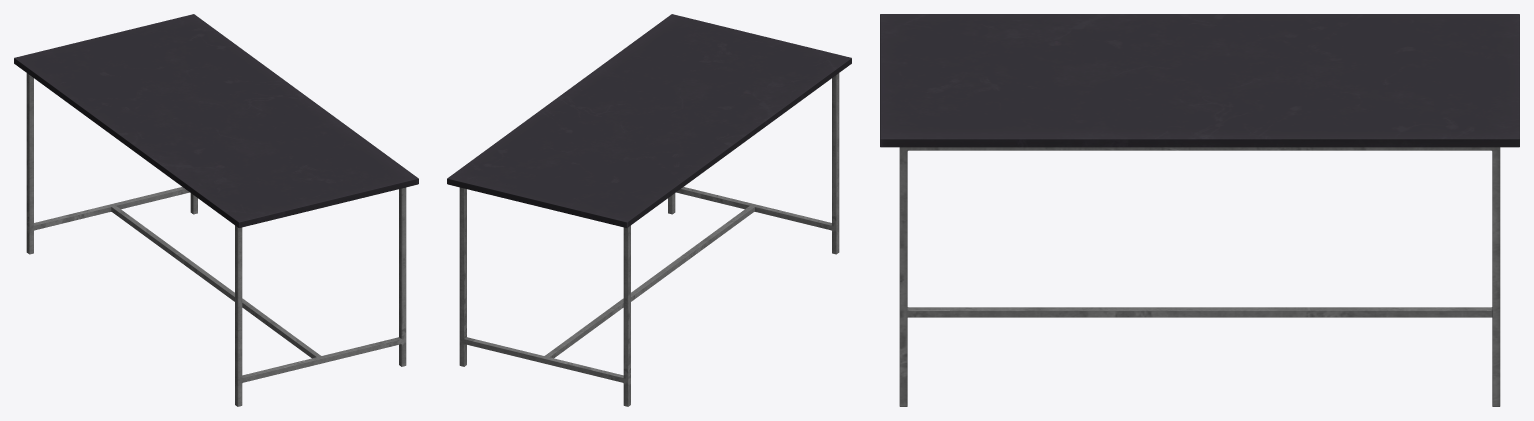
The model's file is table_with_metal_legs_v2.glb.
3 views of the same model, side by side, from view 1: azimuth 30°, elevation 25°; view 2: azimuth 150°, elevation 25°; view 3: azimuth 270°, elevation 25° (orthographic). The views are drawn at different scales.
Visible parts, largest first — view 1: tabletop, frame; view 2: tabletop, frame; view 3: tabletop, frame.
Part boxes in pixels (x1,y1,x2,y2): tabletop: [14, 14, 418, 227]; frame: [26, 73, 406, 406]; tabletop: [447, 14, 851, 227]; frame: [459, 73, 839, 406]; tabletop: [880, 14, 1519, 147]; frame: [899, 147, 1500, 406].
Bounding box in the file's own units: 5.42 × 5.5 × 11.72.
Materials: 2 (2 with a texture image).
